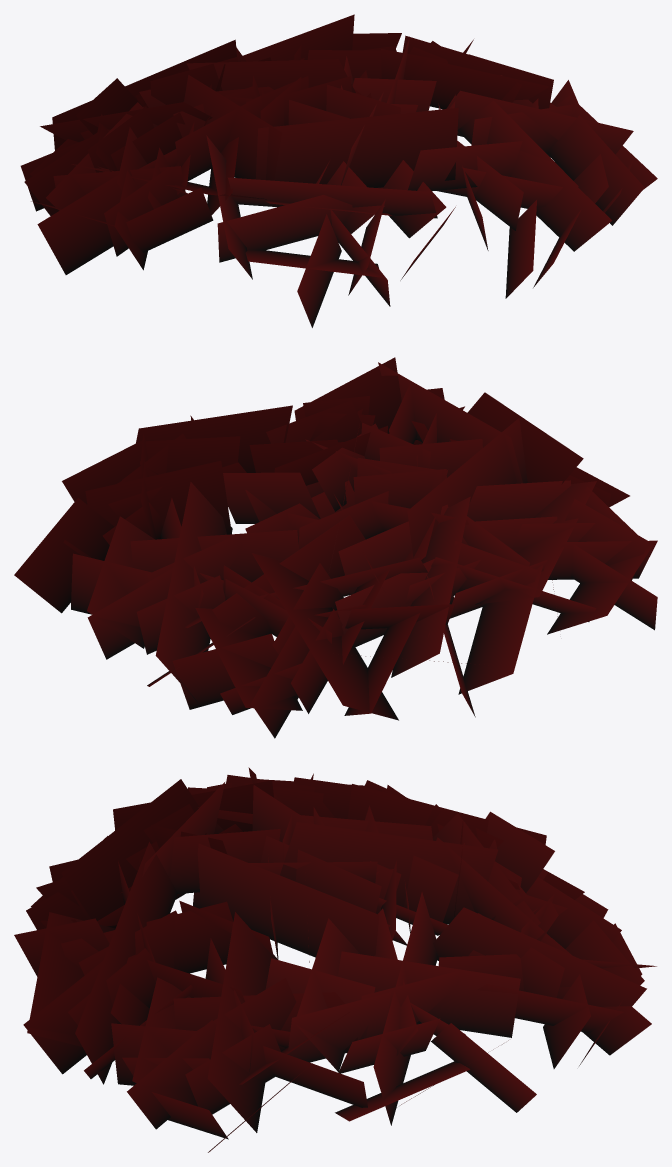
3 renders of one model, top to bottom at view 1: azimuth 30°, elevation 25°; view 2: azimuth 150°, elevation 25°; view 3: azimuth 270°, elevation 25°, orthographic. The views are drawn at different scales.
Visible parts, largest first — view 1: G:\FFXIV-MapTools\exports\d2f2\bg\ex1\02_dra_d2\fld\d2f2\bgp; view 2: G:\FFXIV-MapTools\exports\d2f2\bg\ex1\02_dra_d2\fld\d2f2\bgp; view 3: G:\FFXIV-MapTools\exports\d2f2\bg\ex1\02_dra_d2\fld\d2f2\bgp.
Part boxes in pixels (box(x1,y1,x2,y2)): G:\FFXIV-MapTools\exports\d2f2\bg\ex1\02_dra_d2\fld\d2f2\bgp: box(20, 14, 657, 327); G:\FFXIV-MapTools\exports\d2f2\bg\ex1\02_dra_d2\fld\d2f2\bgp: box(14, 357, 657, 738); G:\FFXIV-MapTools\exports\d2f2\bg\ex1\02_dra_d2\fld\d2f2\bgp: box(14, 767, 656, 1152).
Bounding box in the file's own units: 6.72 × 2.16 × 5.85.
